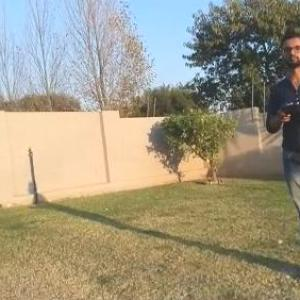follow: (256, 28, 300, 285)
